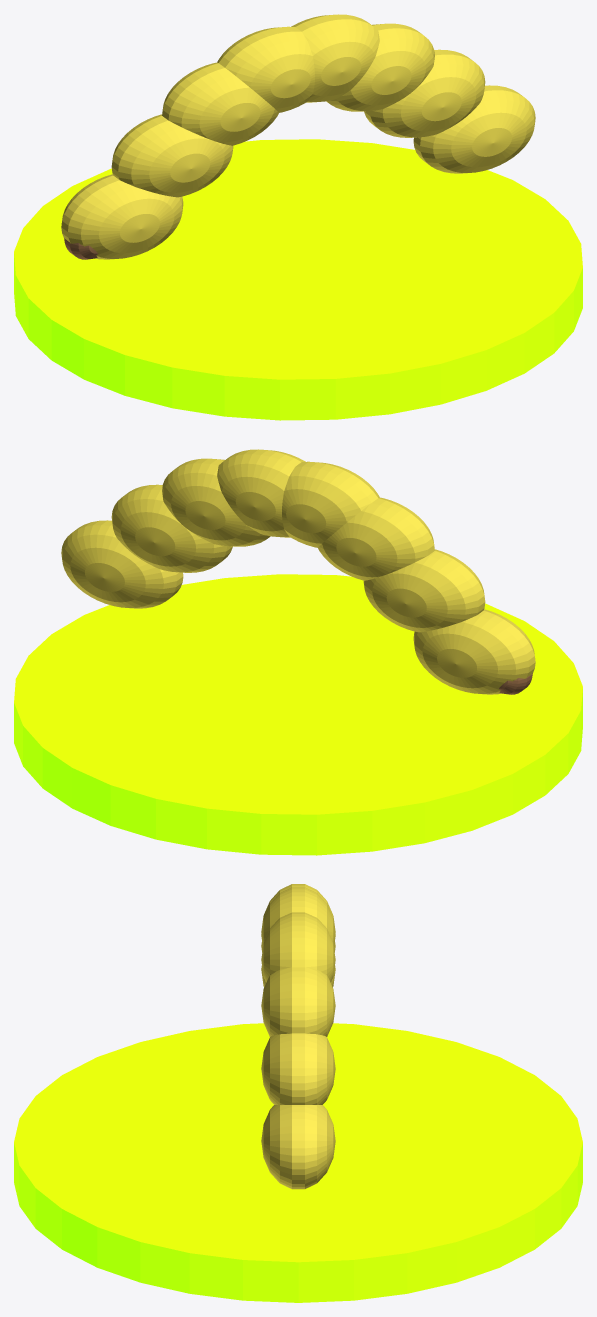
File: food_banana.glb
The picture shows the model from 3 angles, top to bottom: view 1: azimuth 30°, elevation 25°; view 2: azimuth 150°, elevation 25°; view 3: azimuth 270°, elevation 25°; orthographic projection.
Parts seen in each view (by area): view 1: 01_20_Popular_Food_Banana_ROOT_base, 01_20_Popular_Food_Banana_part_01, 01_20_Popular_Food_Banana_part_02, 01_20_Popular_Food_Banana_part_08, 01_20_Popular_Food_Banana_part_03, 01_20_Popular_Food_Banana_part_07, 01_20_Popular_Food_Banana_part_04, 01_20_Popular_Food_Banana_part_06, 01_20_Popular_Food_Banana_part_05; view 2: 01_20_Popular_Food_Banana_ROOT_base, 01_20_Popular_Food_Banana_part_01, 01_20_Popular_Food_Banana_part_02, 01_20_Popular_Food_Banana_part_08, 01_20_Popular_Food_Banana_part_03, 01_20_Popular_Food_Banana_part_07, 01_20_Popular_Food_Banana_part_04, 01_20_Popular_Food_Banana_part_06, 01_20_Popular_Food_Banana_part_05; view 3: 01_20_Popular_Food_Banana_ROOT_base, 01_20_Popular_Food_Banana_part_08, 01_20_Popular_Food_Banana_part_07, 01_20_Popular_Food_Banana_part_06, 01_20_Popular_Food_Banana_part_05, 01_20_Popular_Food_Banana_part_04.
Part boxes in pixels (box(x1,y1,x2,y2)): 01_20_Popular_Food_Banana_ROOT_base: box(14, 139, 582, 420); 01_20_Popular_Food_Banana_part_01: box(61, 174, 183, 259); 01_20_Popular_Food_Banana_part_02: box(111, 114, 233, 197); 01_20_Popular_Food_Banana_part_08: box(413, 85, 535, 173); 01_20_Popular_Food_Banana_part_03: box(162, 62, 278, 145); 01_20_Popular_Food_Banana_part_07: box(364, 49, 485, 137); 01_20_Popular_Food_Banana_part_04: box(217, 26, 314, 112); 01_20_Popular_Food_Banana_part_06: box(326, 23, 434, 111); 01_20_Popular_Food_Banana_part_05: box(291, 14, 379, 102); 01_20_Popular_Food_Banana_ROOT_base: box(14, 574, 582, 855); 01_20_Popular_Food_Banana_part_01: box(413, 609, 535, 694); 01_20_Popular_Food_Banana_part_02: box(363, 549, 485, 632); 01_20_Popular_Food_Banana_part_08: box(61, 520, 183, 608); 01_20_Popular_Food_Banana_part_03: box(318, 497, 434, 580); 01_20_Popular_Food_Banana_part_07: box(111, 484, 232, 572); 01_20_Popular_Food_Banana_part_04: box(282, 461, 379, 547); 01_20_Popular_Food_Banana_part_06: box(162, 458, 270, 546); 01_20_Popular_Food_Banana_part_05: box(217, 449, 305, 537); 01_20_Popular_Food_Banana_ROOT_base: box(14, 1023, 582, 1302); 01_20_Popular_Food_Banana_part_08: box(261, 1105, 335, 1189); 01_20_Popular_Food_Banana_part_07: box(261, 1033, 335, 1104); 01_20_Popular_Food_Banana_part_06: box(261, 967, 335, 1036); 01_20_Popular_Food_Banana_part_05: box(261, 912, 335, 982); 01_20_Popular_Food_Banana_part_04: box(261, 887, 335, 946).
Bounding box in the file's own units: 0.76 × 0.4042 × 0.76.
